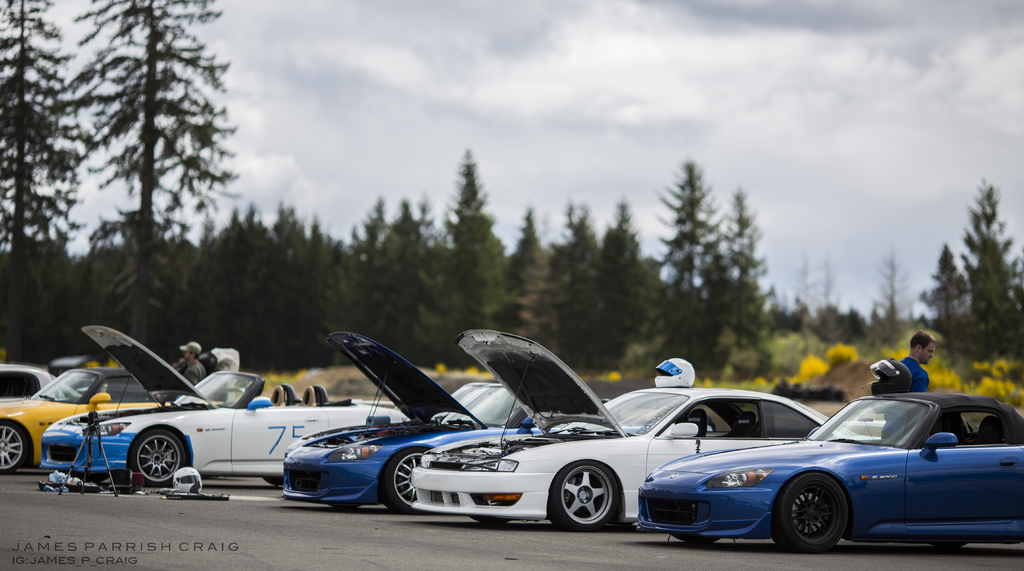Car: (0, 323, 885, 533), (621, 384, 1019, 546)
